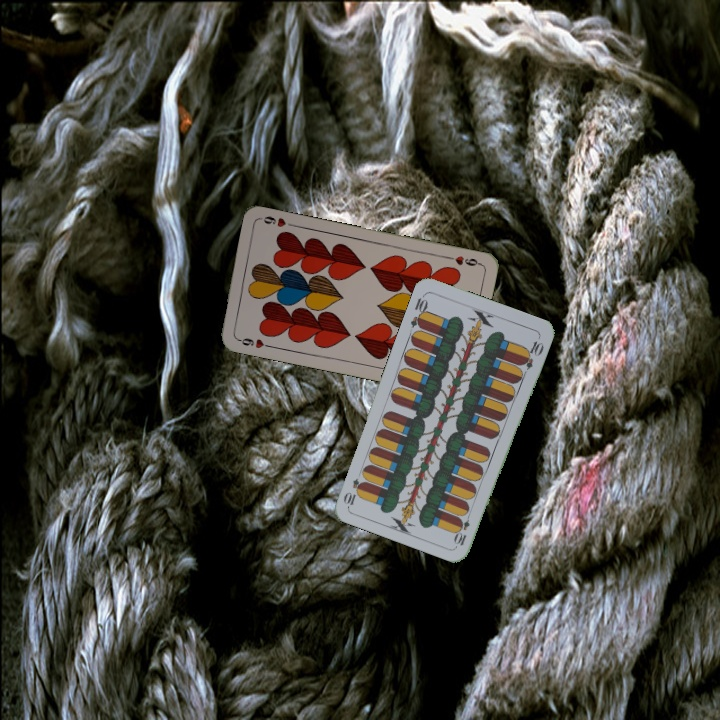E10: (406, 290, 431, 331), (452, 508, 473, 548)
H9: (443, 252, 483, 269), (233, 334, 273, 351)
